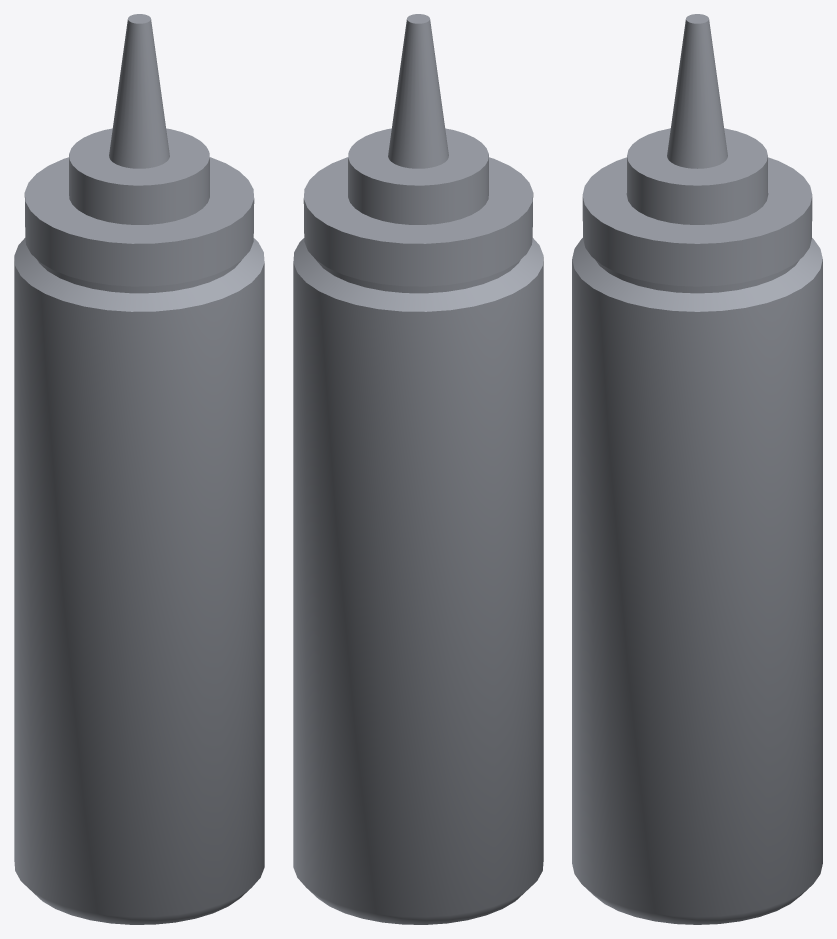
File: Condiment.fbx
The picture shows the model from 3 angles, left to right: view 1: azimuth 30°, elevation 25°; view 2: azimuth 150°, elevation 25°; view 3: azimuth 270°, elevation 25°; orthographic projection.
Parts seen in each view (by area): view 1: Cylinder; view 2: Cylinder; view 3: Cylinder.
Boxes of the visible parts, x1,y1,x2,y2 form: Cylinder: (14, 14, 264, 924); Cylinder: (293, 14, 543, 924); Cylinder: (572, 14, 822, 924).
Bounding box in the file's own units: 0.85 × 3.21 × 0.85.
Materials: 1 (1 with a texture image).
